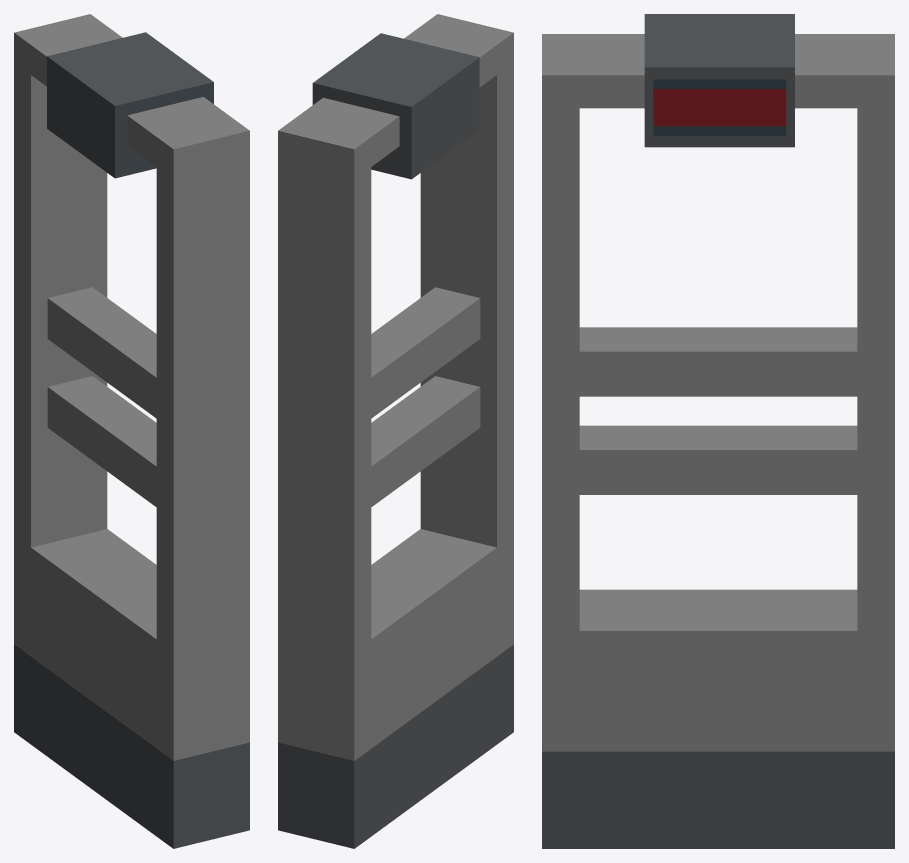
File: Enviro_Alert 1.fbx
The picture shows the model from 3 angles, left to right: view 1: azimuth 30°, elevation 25°; view 2: azimuth 150°, elevation 25°; view 3: azimuth 270°, elevation 25°; orthographic projection. The views are drawn at different scales.
Visible parts, largest first — view 1: polySurface5; view 2: polySurface5; view 3: polySurface5.
Boxes of the visible parts, bbox=[...] form: polySurface5: bbox=[14, 14, 249, 848]; polySurface5: bbox=[278, 14, 513, 848]; polySurface5: bbox=[542, 14, 894, 848].
Bounding box in the file's own units: 3.58 × 24.63 × 10.
1 material, 1 textured.
